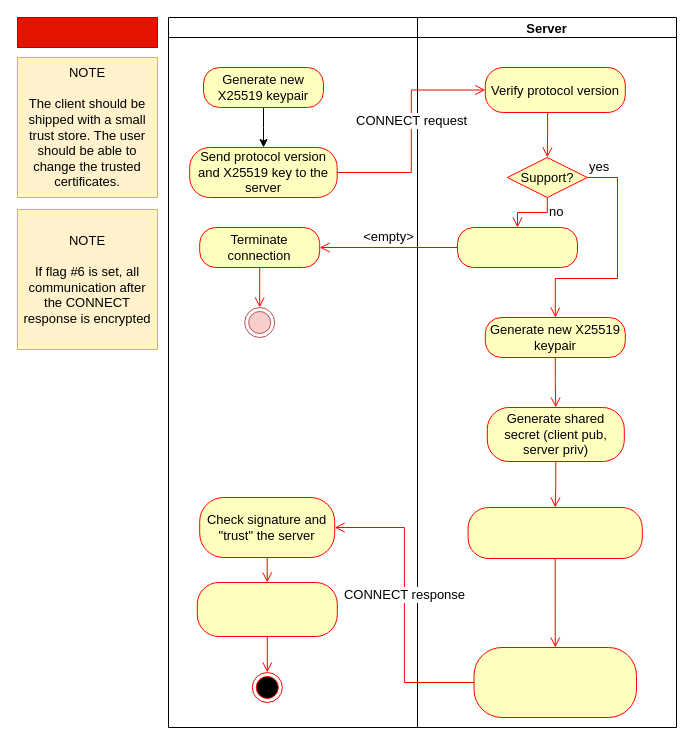
Image size: 694x745. Some labels were removed from this diagram. Each missing label, with the box of its shape:
Client: (168, 16, 418, 728)
CONNECT V1.0: (16, 16, 158, 48)
Derive and store 32-byte session id and session key: (196, 582, 337, 636)
Send status 2: (456, 226, 578, 268)
Sign client pub key and server pub key. Optionally send certificate: (473, 646, 636, 718)
Store 32 byte shared secret as session key for the session: (467, 506, 642, 558)
